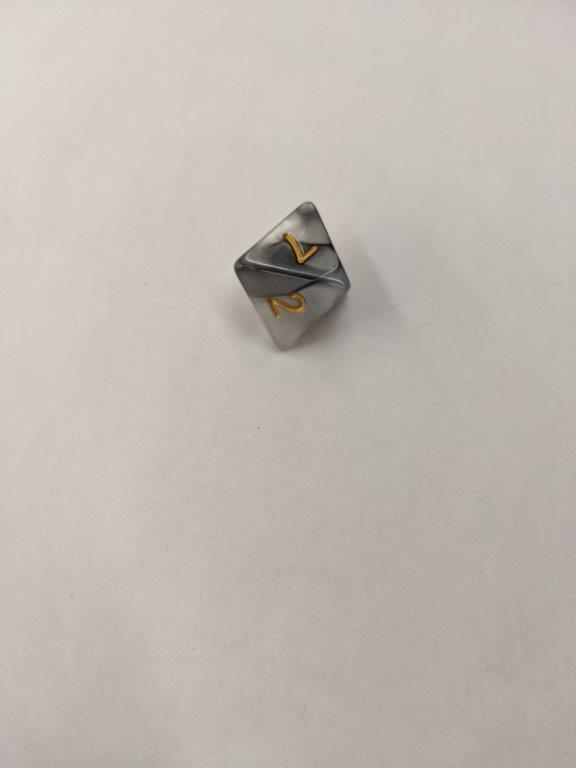d8-7: (233, 200, 350, 355)
